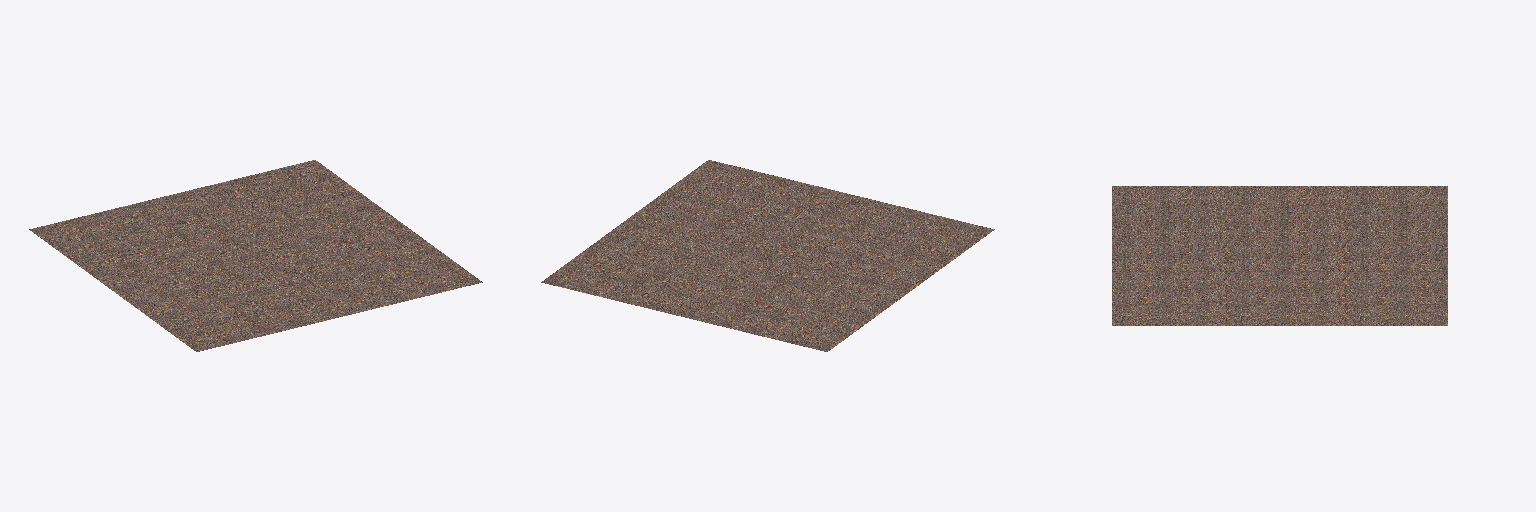
The picture shows the model from 3 angles: view 1: azimuth 30°, elevation 25°; view 2: azimuth 150°, elevation 25°; view 3: azimuth 270°, elevation 25°; orthographic projection.
Parts seen in each view (by area): view 1: scene; view 2: scene; view 3: scene.
Part boxes in pixels (x1,y1,x2,y2): scene: (29,160,482,351); scene: (541,160,994,351); scene: (1112,186,1447,325).
Bounding box in the file's own units: 34.44 × 0 × 34.93.
Materials: 1 (1 with a texture image).